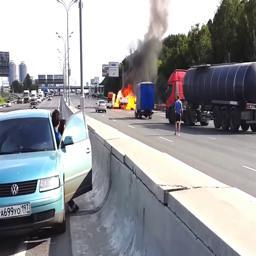fire: (112, 83, 136, 111)
